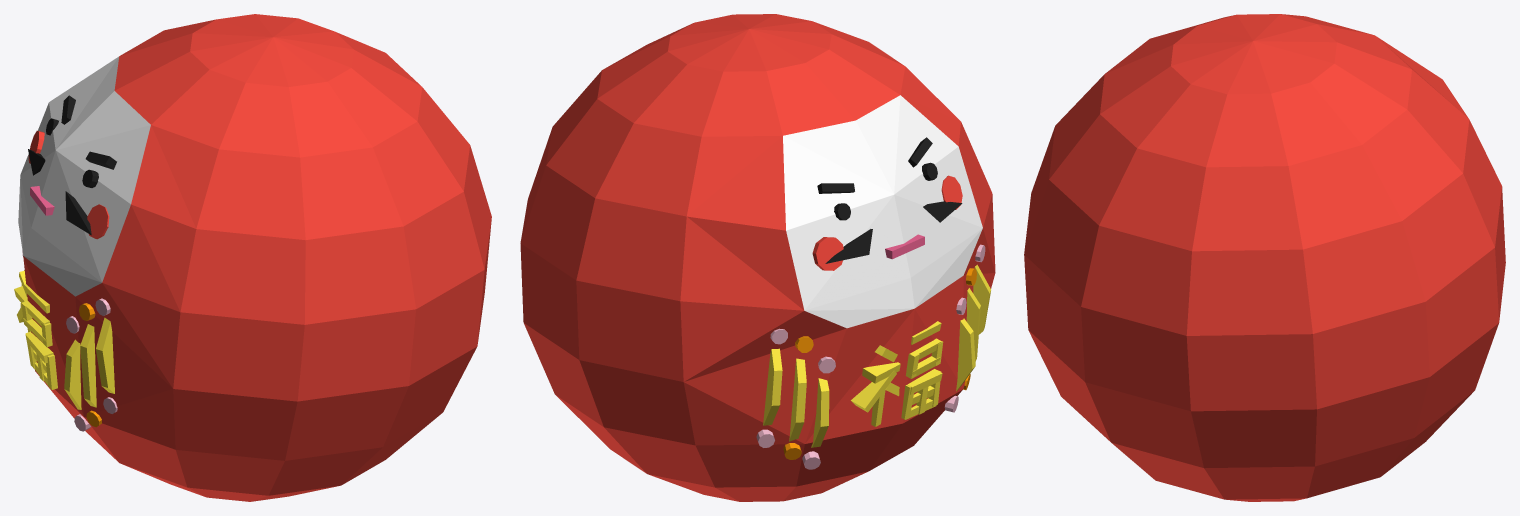
3 views of the same model, side by side, from view 1: azimuth 30°, elevation 25°; view 2: azimuth 150°, elevation 25°; view 3: azimuth 270°, elevation 25° (orthographic).
Visible parts, largest first — view 1: mesh_329443932, group_662681403, group_1292288346, group_1988986039, group_2007661922, group_1329110353; view 2: mesh_329443932, group_702271047, group_411513287, group_1988986039, group_1772219540, group_1442031787, group_167888755, group_613908378, group_1292288346, group_662681403; view 3: mesh_329443932.
Boxes of the visible parts, x1,y1,x2,y2 form: mesh_329443932: (18,14,491,501); group_662681403: (80,324,96,407); group_1292288346: (96,317,114,393); group_1988986039: (64,339,81,409); group_2007661922: (65,191,91,235); group_1329110353: (87,204,109,239); mesh_329443932: (520,14,995,501); group_702271047: (763,348,782,425); group_411513287: (789,358,806,441); group_1988986039: (956,318,975,391); group_1772219540: (811,378,829,447); group_1442031787: (812,237,843,270); group_167888755: (851,370,896,412); group_613908378: (825,229,872,263); group_1292288346: (973,264,990,334); group_662681403: (966,288,980,361); mesh_329443932: (1024,14,1505,501).
Size of the model in its own units: 26.93 by 27.9 by 27.17.
